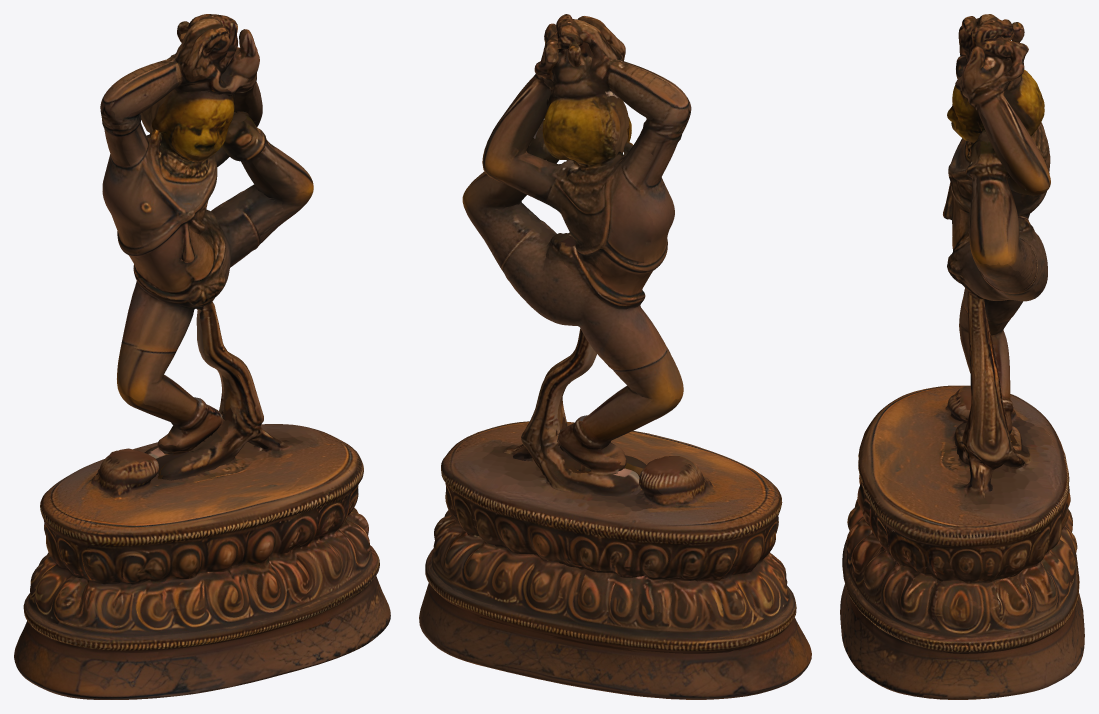
The picture shows the model from 3 angles, left to right: view 1: azimuth 30°, elevation 25°; view 2: azimuth 150°, elevation 25°; view 3: azimuth 270°, elevation 25°; orthographic projection. The views are drawn at different scales.
Visible parts, largest first — view 1: textured_mesh; view 2: textured_mesh; view 3: textured_mesh.
Part boxes in pixels (bbox=[...]): textured_mesh: bbox=[14, 14, 390, 699]; textured_mesh: bbox=[419, 14, 811, 699]; textured_mesh: bbox=[840, 14, 1084, 699].
Bounding box in the file's own units: 1.2 × 1.99 × 0.7228.
Materials: 1 (1 with a texture image).
